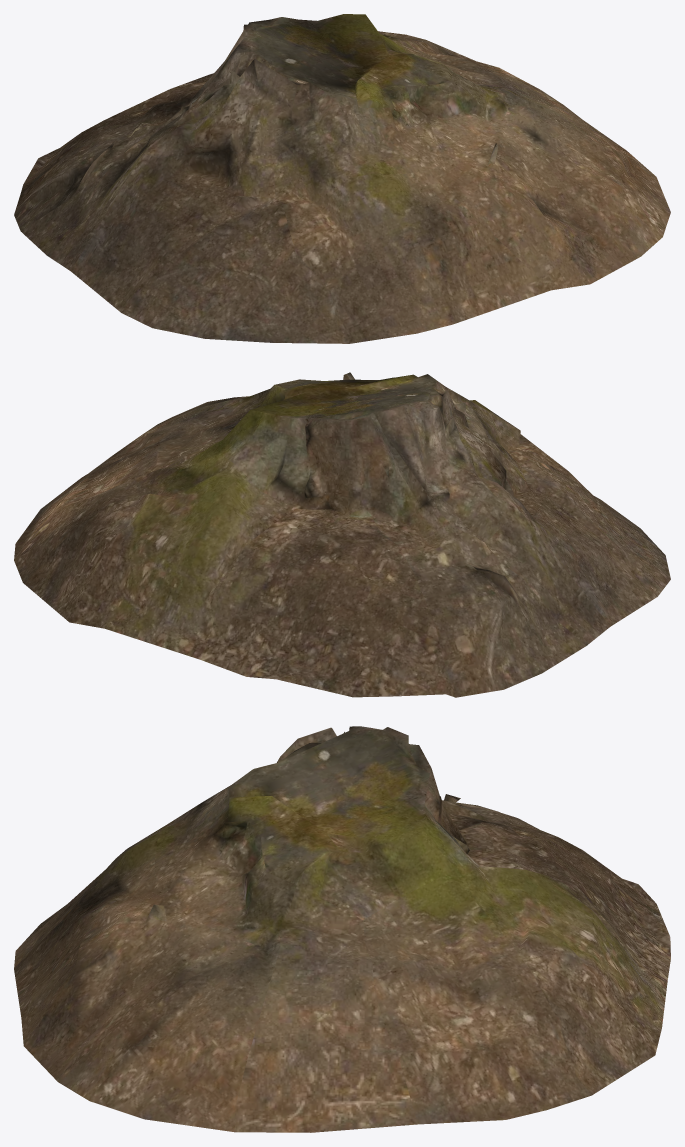
The model's file is stump_b.glb.
3 renders of one model, top to bottom at view 1: azimuth 30°, elevation 25°; view 2: azimuth 150°, elevation 25°; view 3: azimuth 270°, elevation 25°, orthographic. The views are drawn at different scales.
Parts seen in each view (by area): view 1: tree_stump_02; view 2: tree_stump_02; view 3: tree_stump_02.
Boxes of the visible parts, box(x1,y1,x2,y2) form: tree_stump_02: box(14, 14, 670, 343); tree_stump_02: box(14, 372, 670, 697); tree_stump_02: box(14, 726, 670, 1132).
Size of the model in its own units: 1.52 by 0.5183 by 1.39.
Materials: 1 (1 with a texture image).
